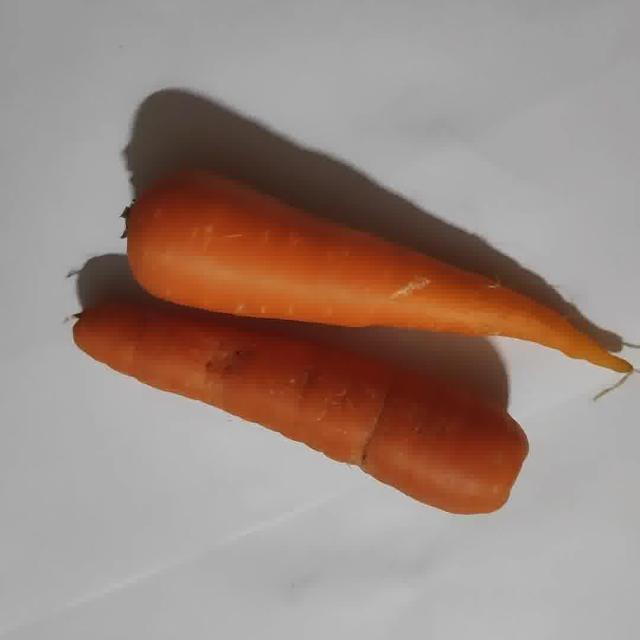Carrot: (125, 168, 632, 372), (73, 300, 530, 513)
